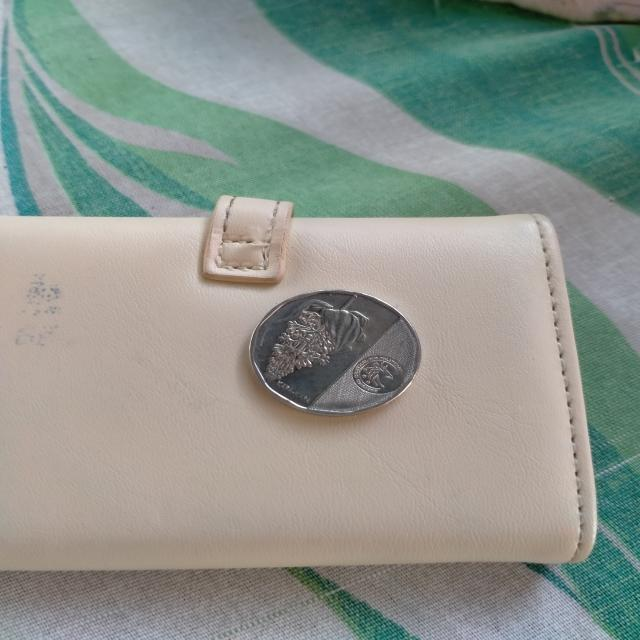10_New_Back: (254, 289, 369, 383)
